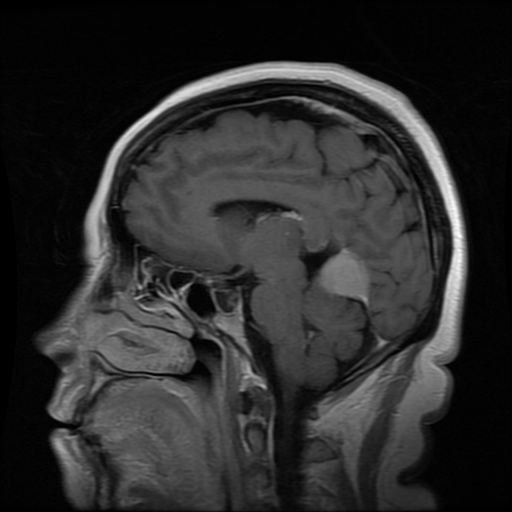meningioma: (317, 247, 368, 302)
